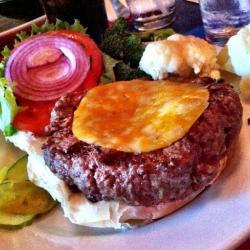burger: (8, 38, 236, 230)
